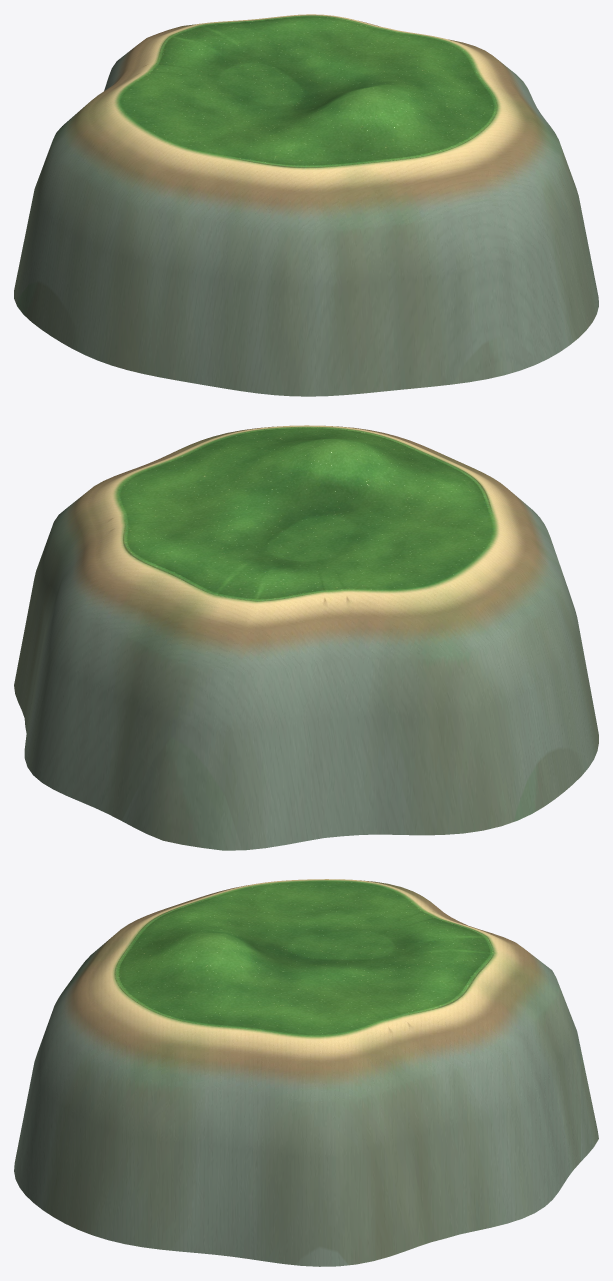
The model's file is green_3.glb.
3 views of the same model, one above another, from view 1: azimuth 30°, elevation 25°; view 2: azimuth 150°, elevation 25°; view 3: azimuth 270°, elevation 25° (orthographic). The views are drawn at different scales.
Parts seen in each view (by area): view 1: green_3; view 2: green_3; view 3: green_3.
Part boxes in pixels (x1,y1,x2,y2): green_3: (14, 14, 598, 396); green_3: (14, 425, 598, 850); green_3: (14, 879, 598, 1266).
Bounding box in the file's own units: 31.85 × 13.29 × 32.62.
Materials: 1 (1 with a texture image).
